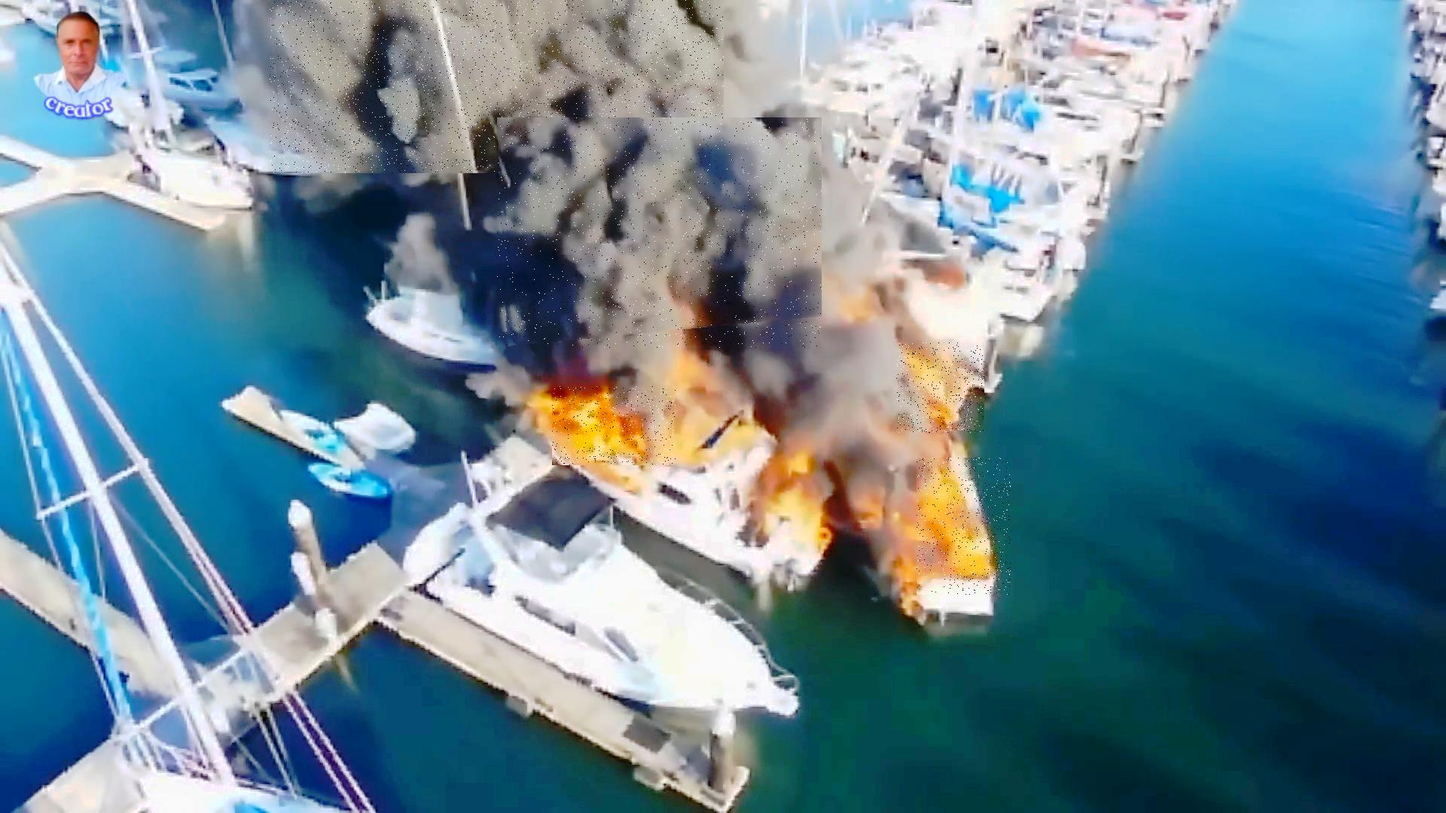fire: (917, 458, 1011, 595), (552, 386, 676, 465), (896, 343, 984, 434)
smoke: (270, 0, 724, 173), (497, 118, 822, 348)
